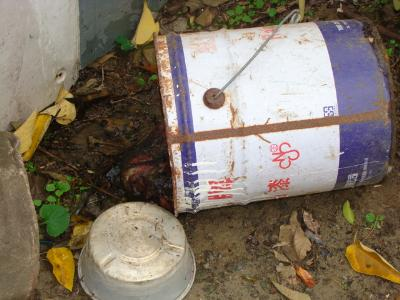bowl: (73, 197, 198, 300)
bucket: (152, 16, 393, 218)
